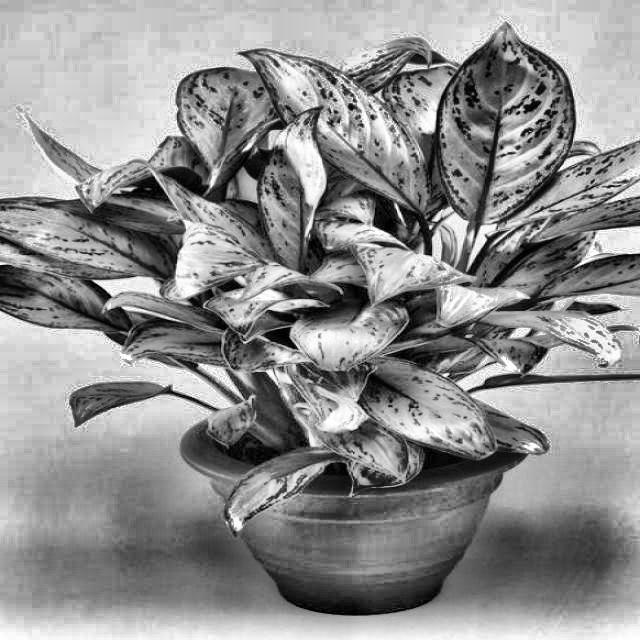plants: (138, 51, 612, 456)
